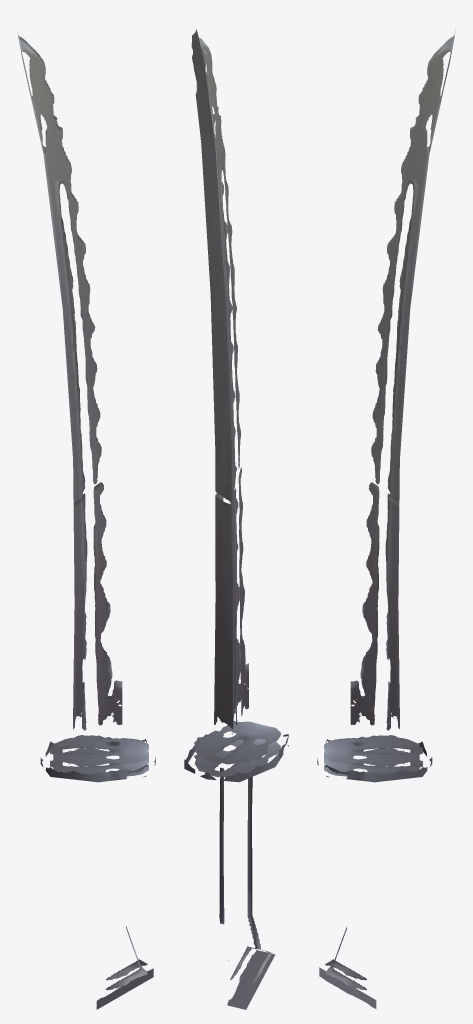
File: katana.fbx
3 views of the same model, side by side, from view 1: azimuth 90°, elevation 25°; view 2: azimuth 150°, elevation 25°; view 3: azimuth 270°, elevation 25° (orthographic). The views are drawn at different scales.
Visible parts, largest first — view 1: Katana; view 2: Katana; view 3: Katana.
Boxes of the visible parts, x1,y1,x2,y2 form: Katana: (17,33,155,1009); Katana: (184,29,288,1009); Katana: (317,30,455,1008).
Bounding box in the file's own units: 0.1266 × 1.59 × 0.2059.
